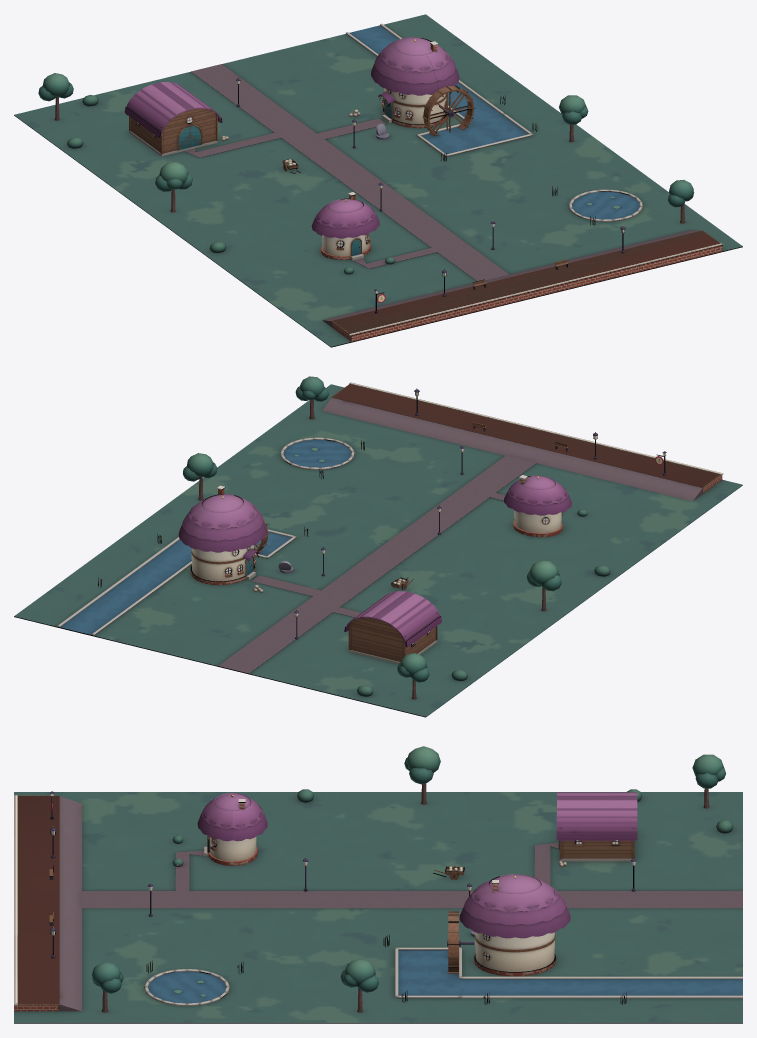
The model's file is stop_mill.fbx.
3 views of the same model, one above another, from view 1: azimuth 30°, elevation 25°; view 2: azimuth 150°, elevation 25°; view 3: azimuth 270°, elevation 25° (orthographic). The views are drawn at different scales.
Visible parts, largest first — view 1: stop_mill; view 2: stop_mill; view 3: stop_mill.
Boxes of the visible parts, left/top/right/bottom form: stop_mill: left=14, top=14, right=742, bottom=347; stop_mill: left=14, top=376, right=742, bottom=717; stop_mill: left=14, top=746, right=742, bottom=1023.
Size of the model in its own units: 12000 by 2094 by 16000.
Materials: 2 (1 with a texture image).
